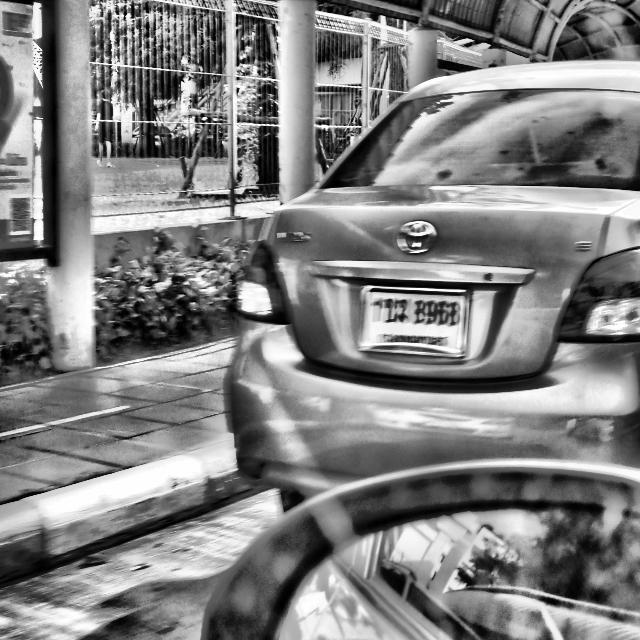license-plate: (358, 280, 473, 364)
